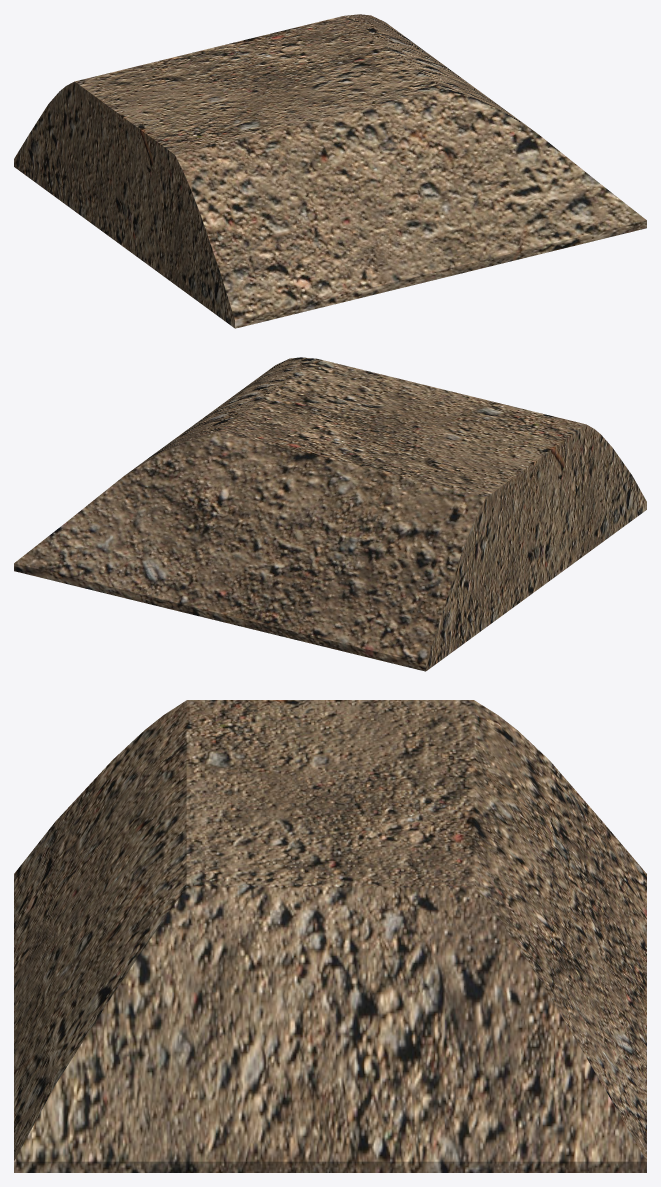
3 renders of one model, top to bottom at view 1: azimuth 30°, elevation 25°; view 2: azimuth 150°, elevation 25°; view 3: azimuth 270°, elevation 25°, orthographic. The views are drawn at different scales.
Parts seen in each view (by area): view 1: Box001; view 2: Box001; view 3: Box001.
Boxes of the visible parts, x1,y1,x2,y2 form: Box001: [14, 14, 646, 328]; Box001: [14, 357, 646, 671]; Box001: [14, 700, 646, 1172].
Bounding box in the file's own units: 129 × 38.76 × 120.
1 material, 1 textured.
